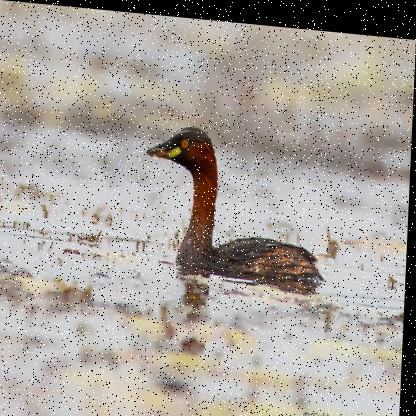Burung: (143, 120, 329, 285)
